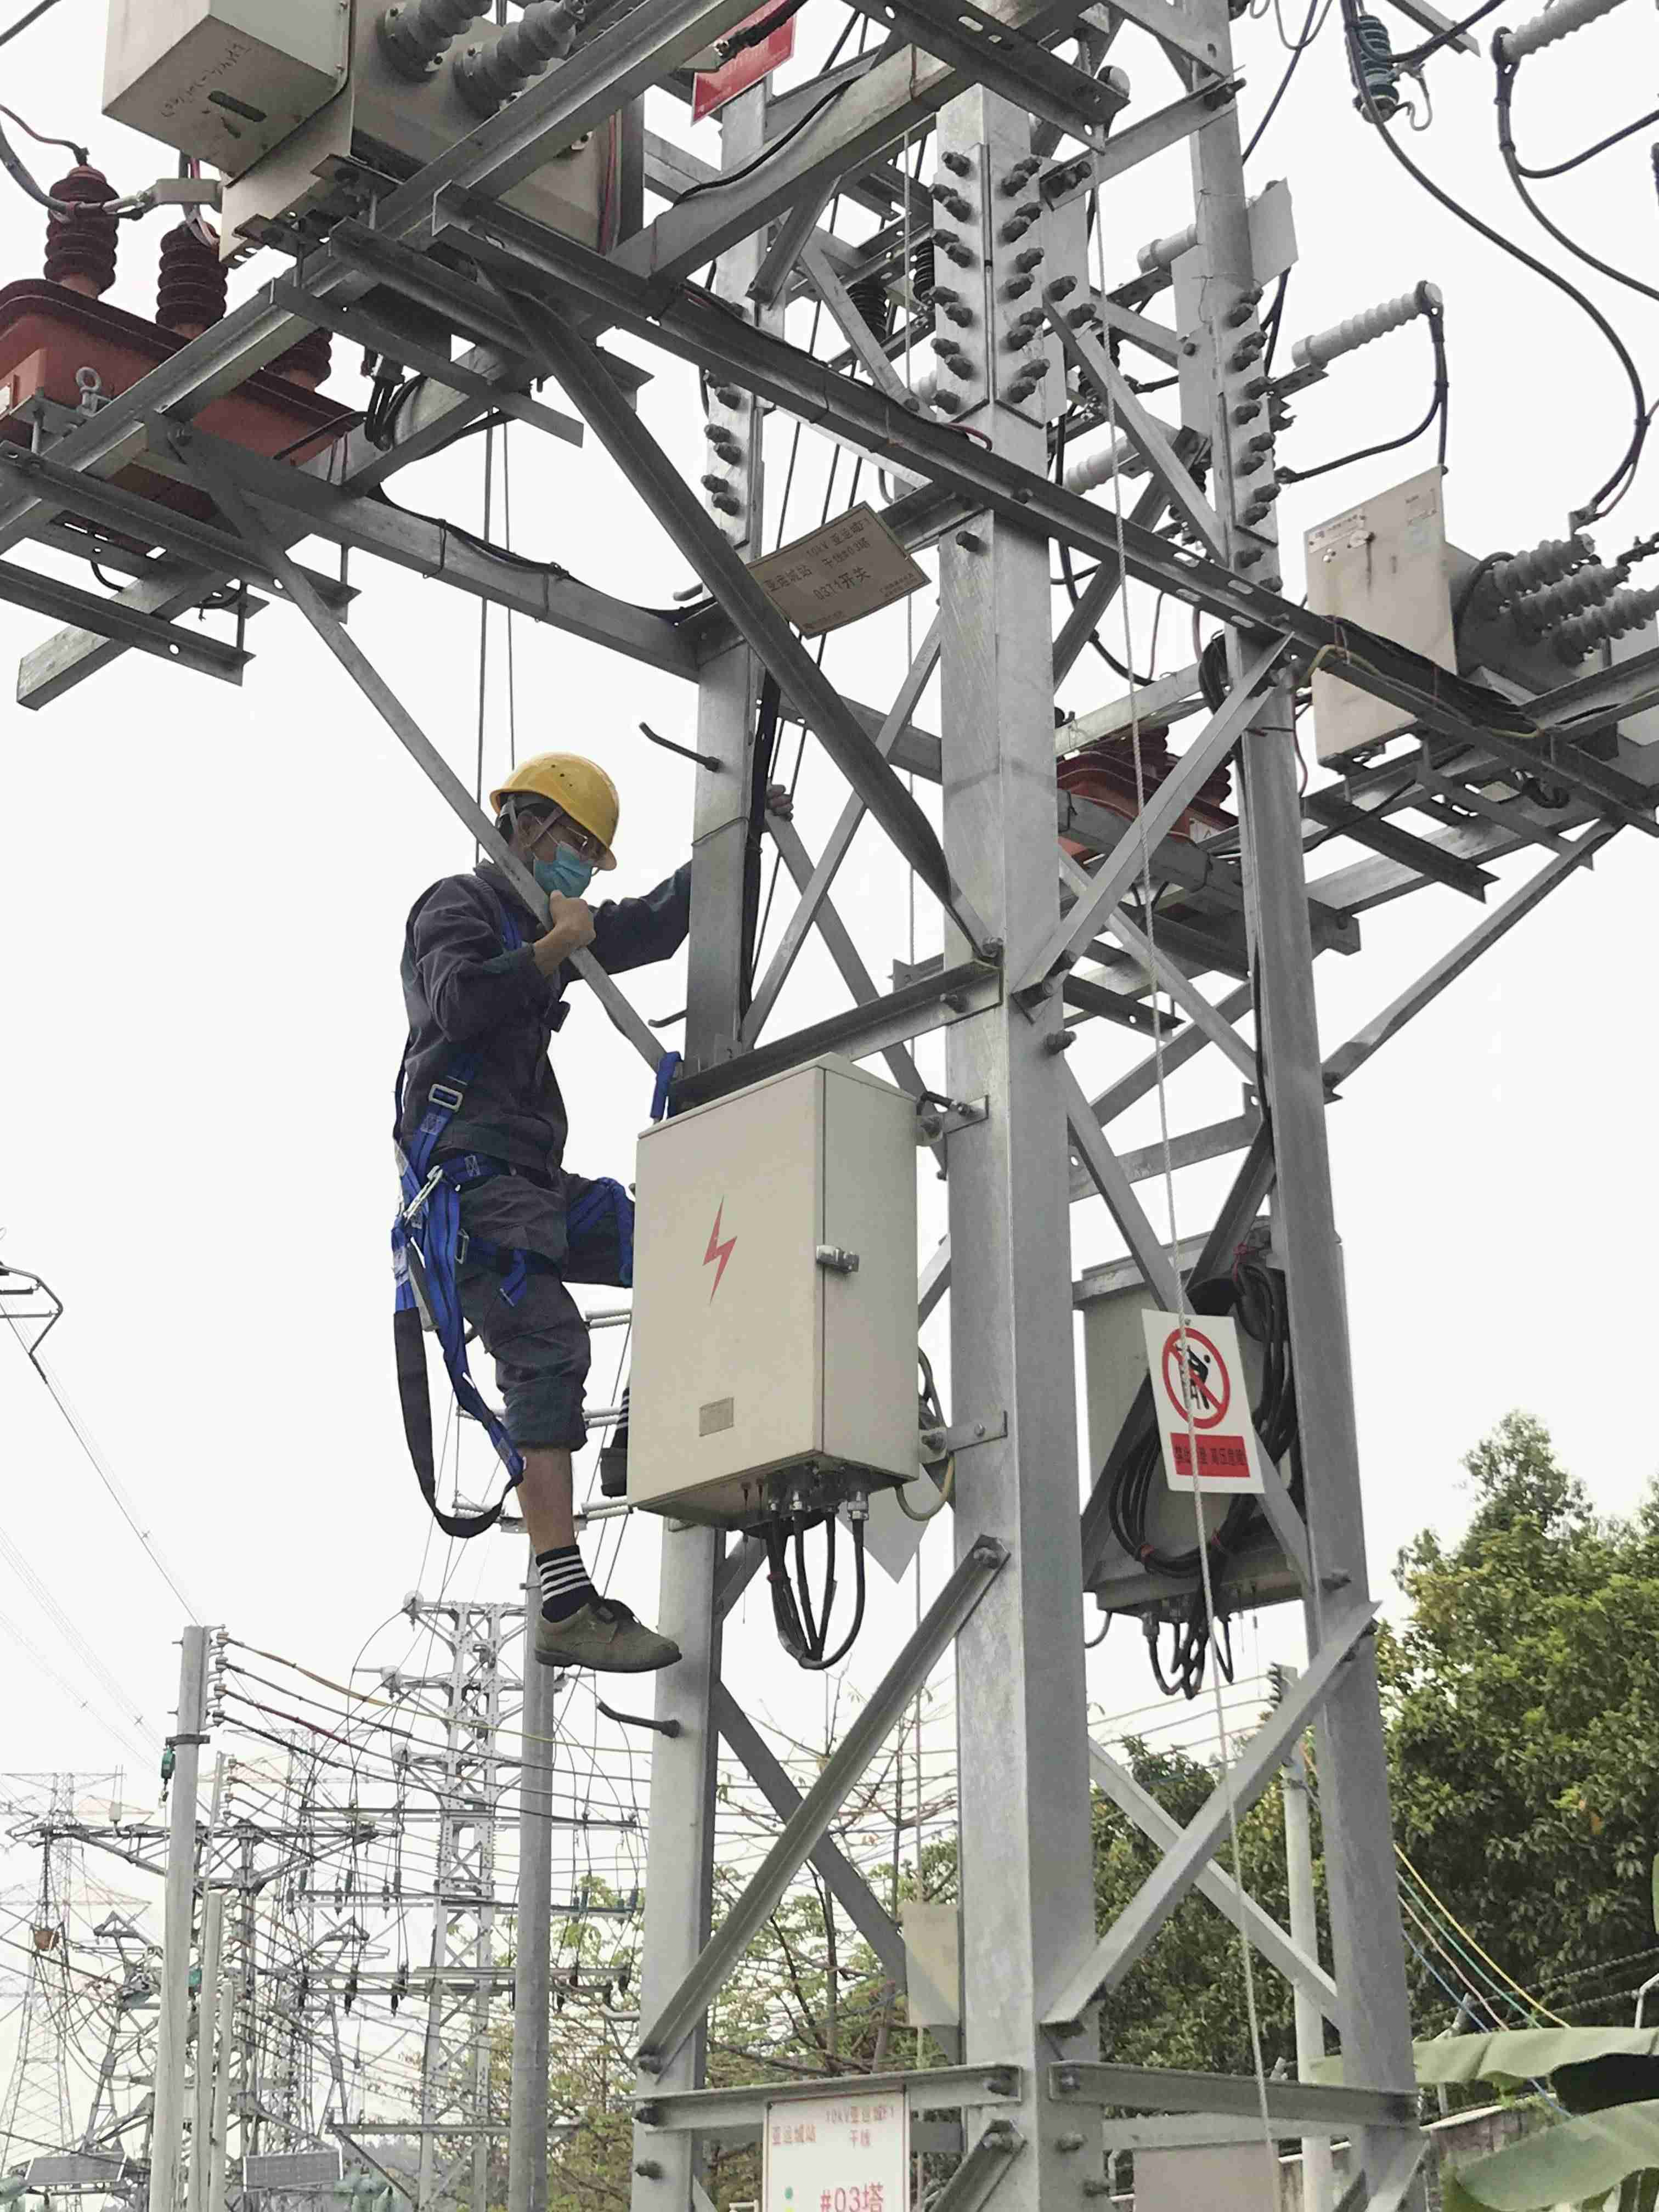downsuit: (434, 1176, 627, 1468)
upsuit: (399, 873, 584, 1183)
wrongbottom: (498, 1399, 591, 1573)
